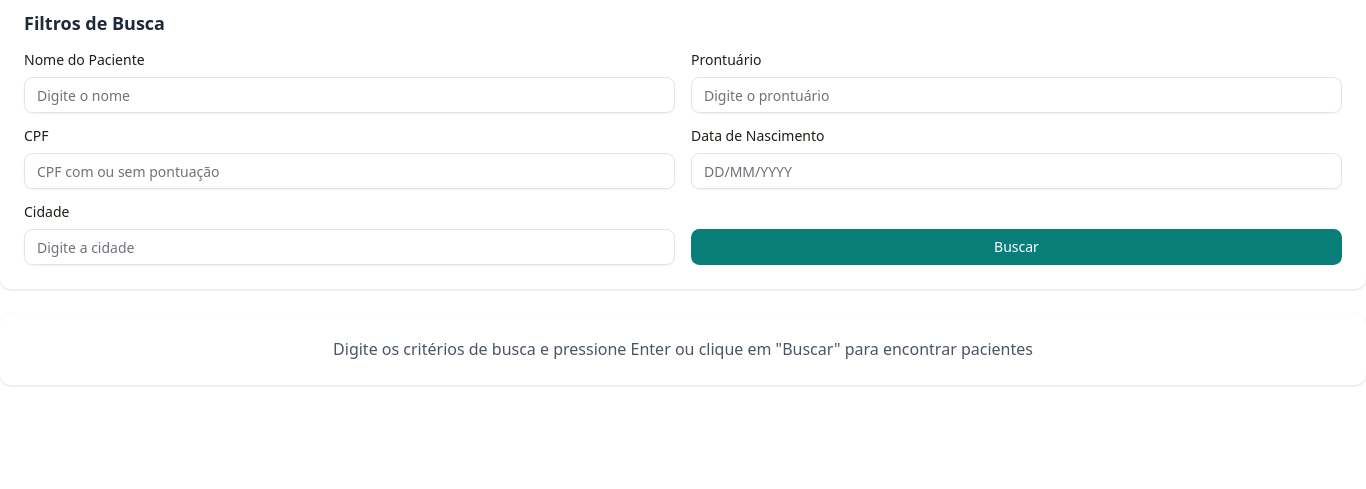
it: busca CPF completo 11122233344 e mantém o filtro na paginação
Type "11122233344" into the field labelled "CPF".
click(350, 171); type("11122233344")  # box left=24, top=153, right=675, bottom=189
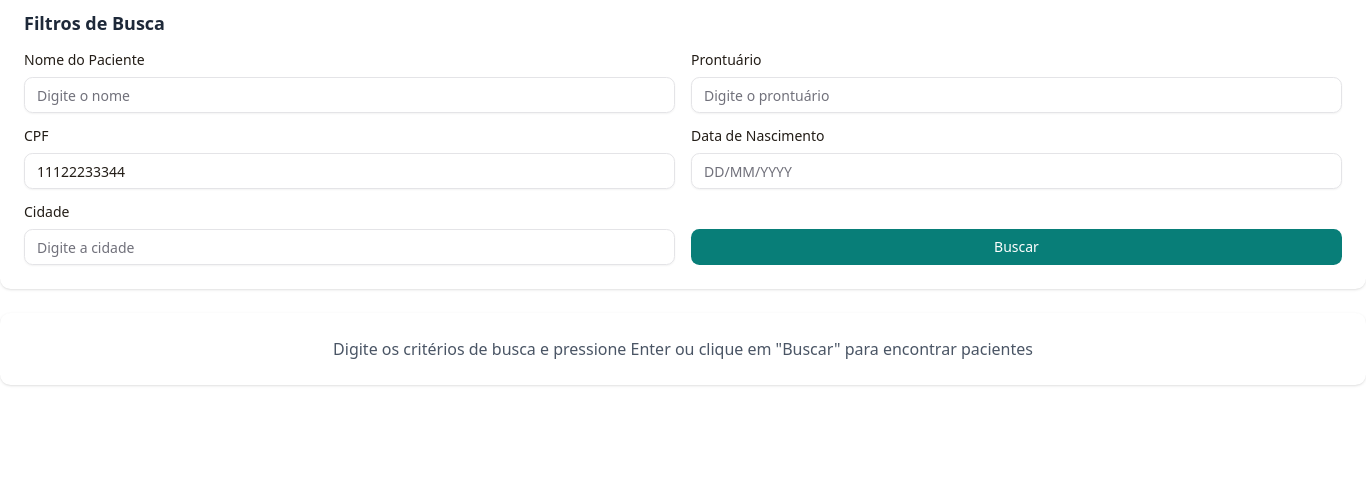
Click the button "Buscar".
click(1016, 247)  # box left=691, top=229, right=1342, bottom=265
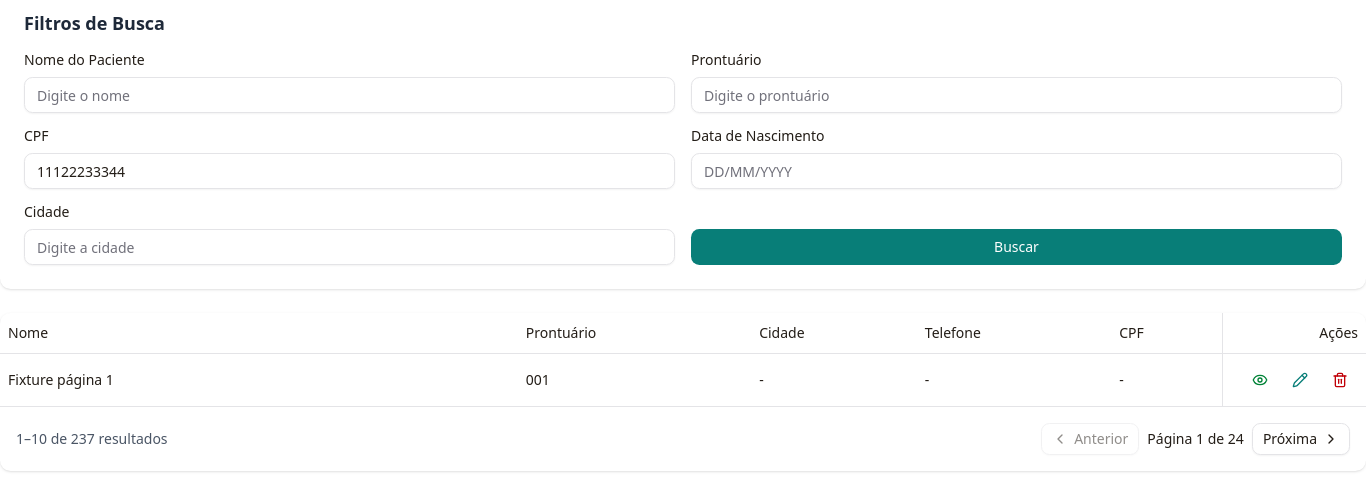
Now the text "1–10 de 237 resultados" is shown, box left=16, top=428, right=168, bottom=448
Replace the text in the field labelled "CPF" with "99988877766" at (350, 171), box left=24, top=153, right=675, bottom=189
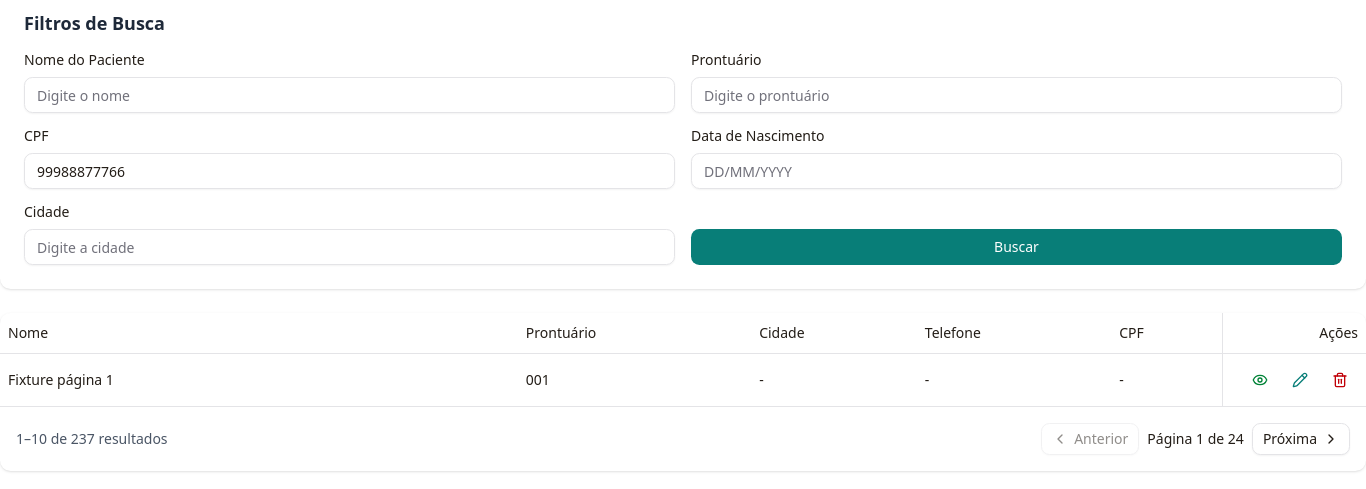
Click the button with aria-label "Próxima página".
click(1301, 438)  # box left=1252, top=422, right=1350, bottom=454
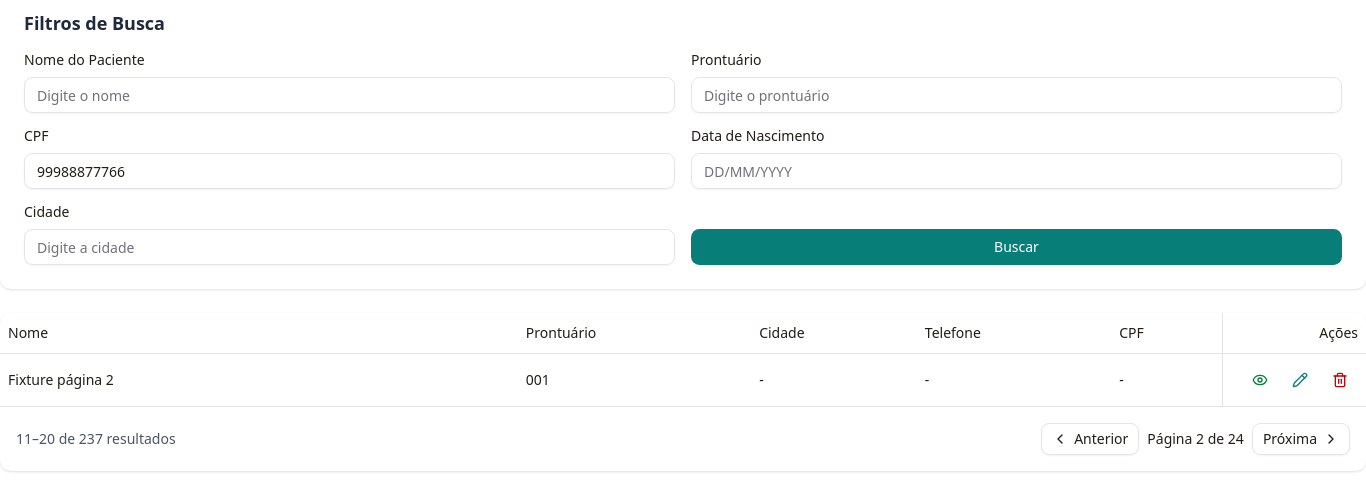
Now the text "11–20 de 237 resultados" is shown, box left=16, top=428, right=176, bottom=448
